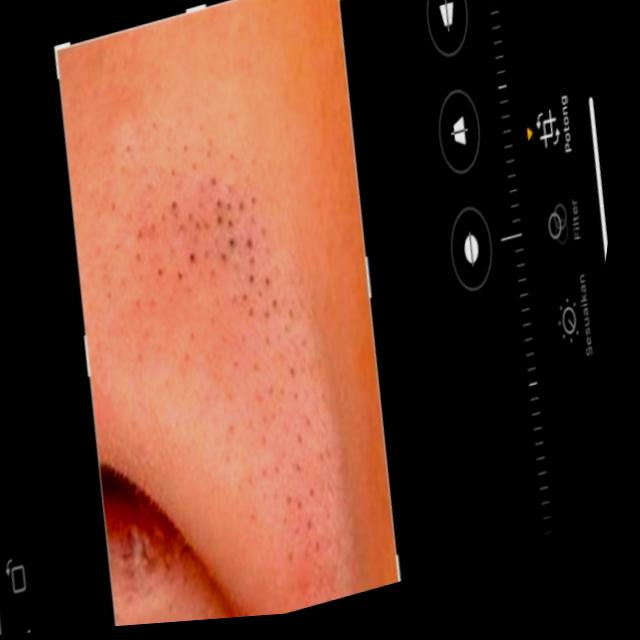blackhead: (129, 104, 326, 497)
